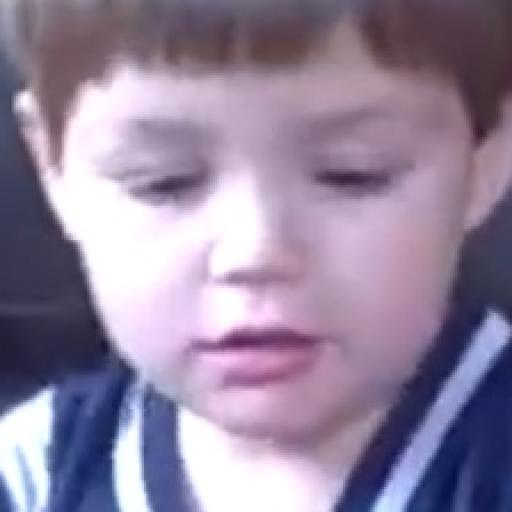Autism: (38, 42, 512, 450)
